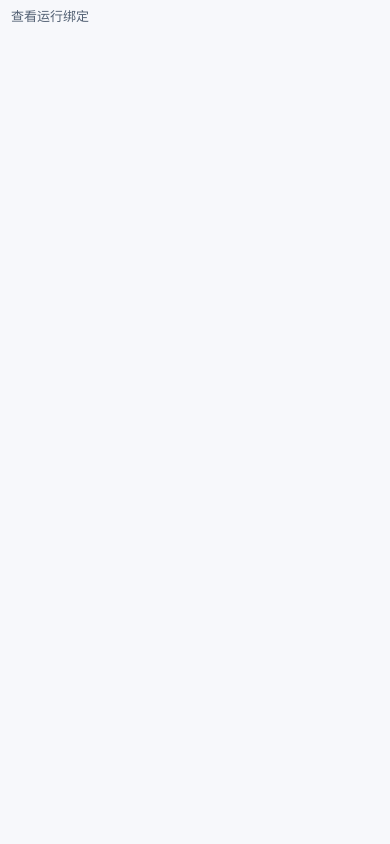
Test: RunBindingButton › lists children and switches binding to a child run
What coordinates should you click on to do the following:
click the button with test id "run-binding-open"
I would click on:
 (50, 16)
Its box is [0,0,100,32].
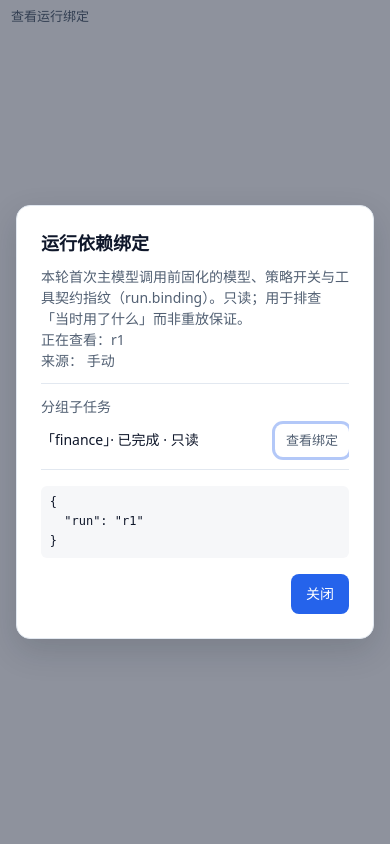
expect the element with test id "run-binding-nav" is shown: met, box [41,383,349,470]
expect the text with test id "run-binding-body" shows "\"run\": \"r1\"": met, box [50,495,144,548]
expect the button with test id "run-binding-open-child-child-1" is shown: met
What coordinates should you click on to do the following:
click the button with test id "run-binding-open-child-child-1"
I would click on:
 (312, 441)
Its box is [275,424,349,457].
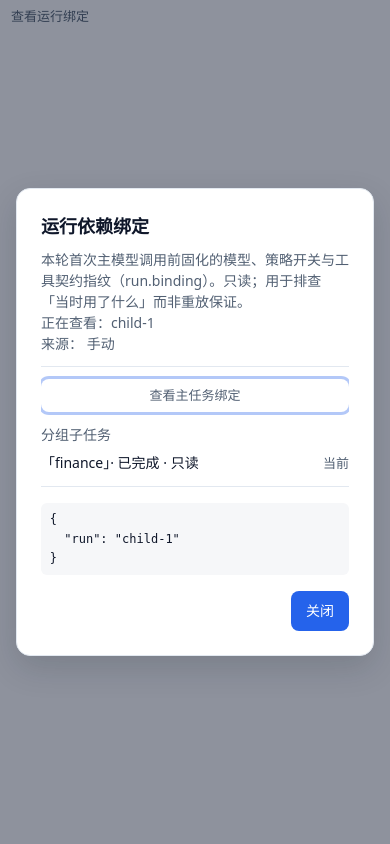
expect the text with test id "run-binding-body" shows "\"run\": \"child-1\"": met, box [50,512,180,565]
expect the button with test id "run-binding-open-parent" is shown: met, box [41,379,349,412]
